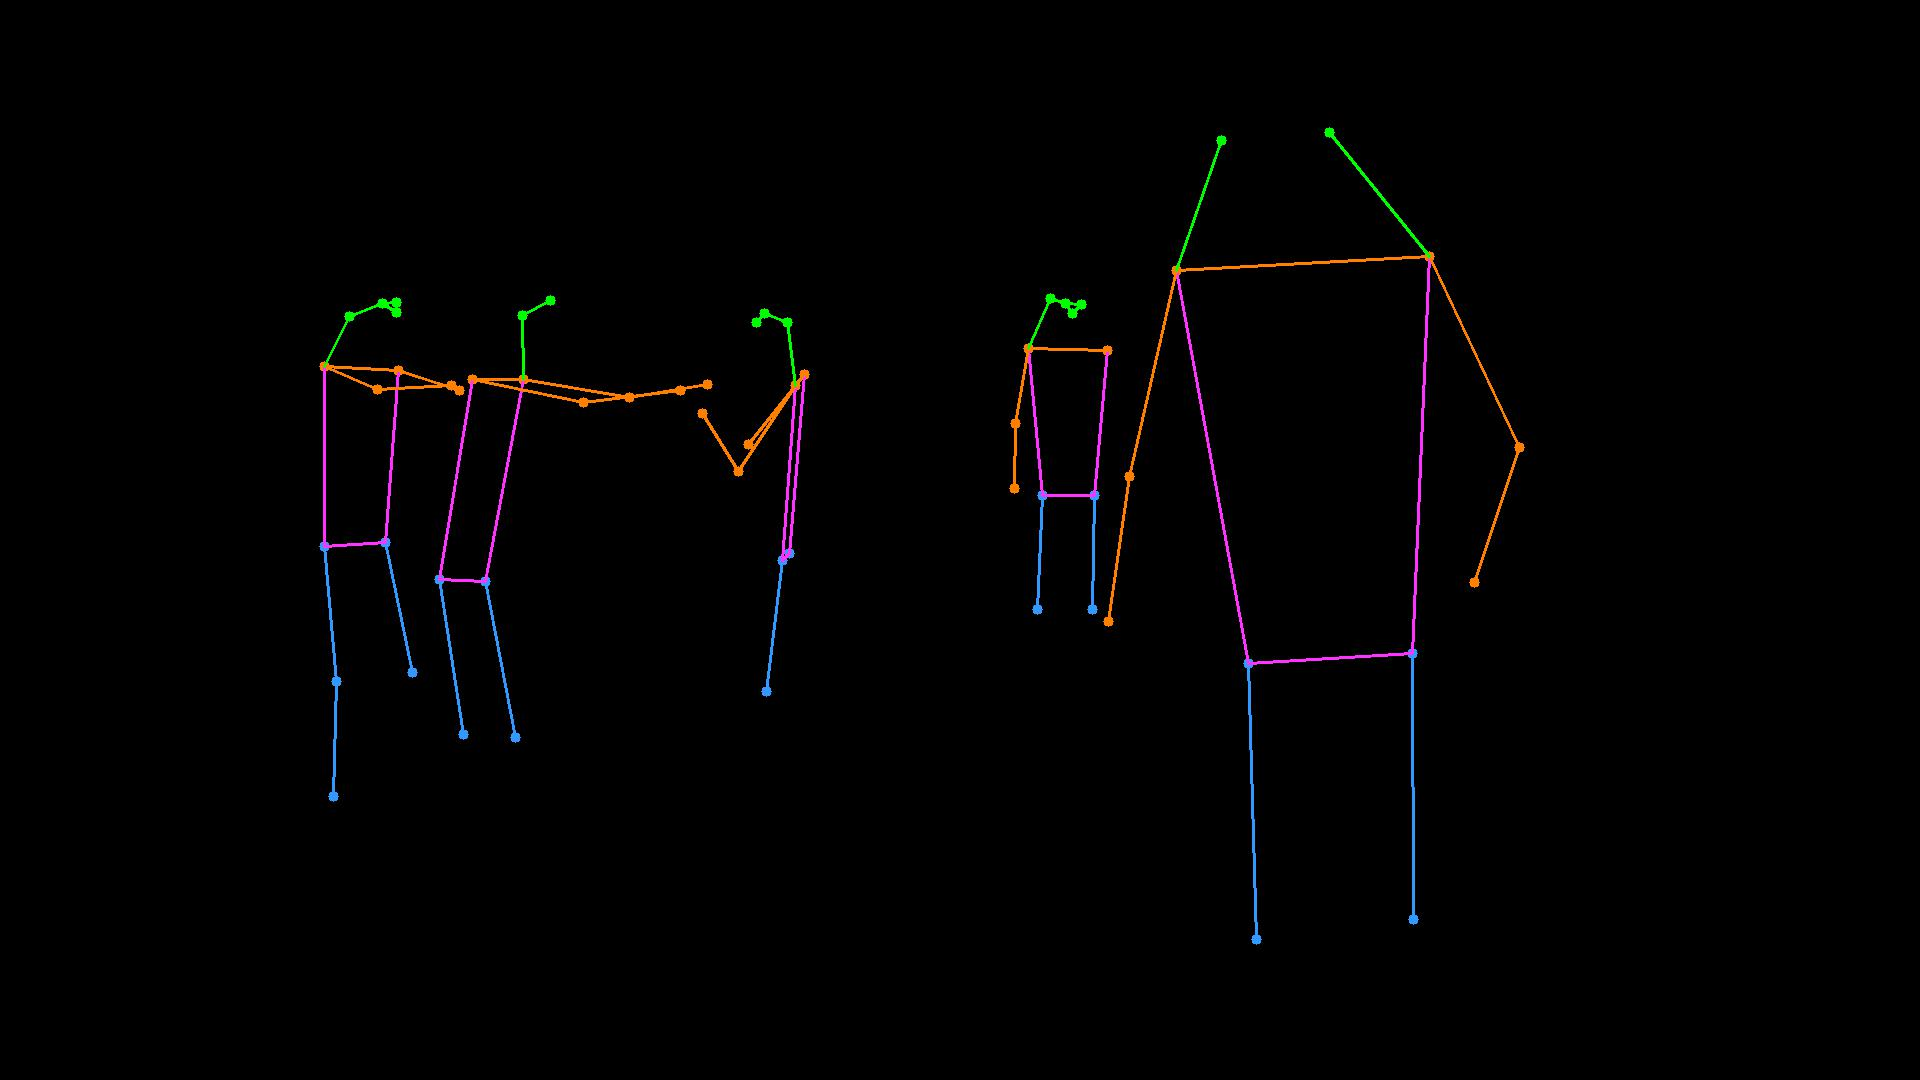normal: (1087, 37, 1545, 1080), (981, 269, 1121, 642)
